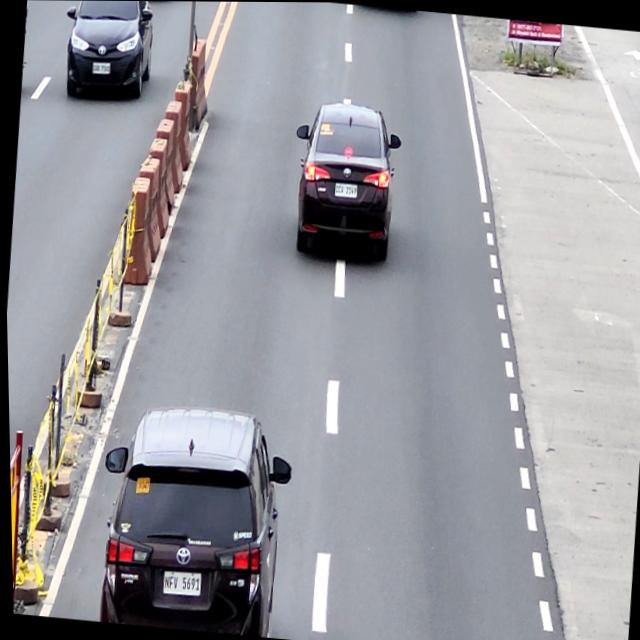Car: (88, 397, 296, 638), (285, 95, 406, 267)
License-Plate: (157, 572, 200, 597), (332, 181, 356, 199)
